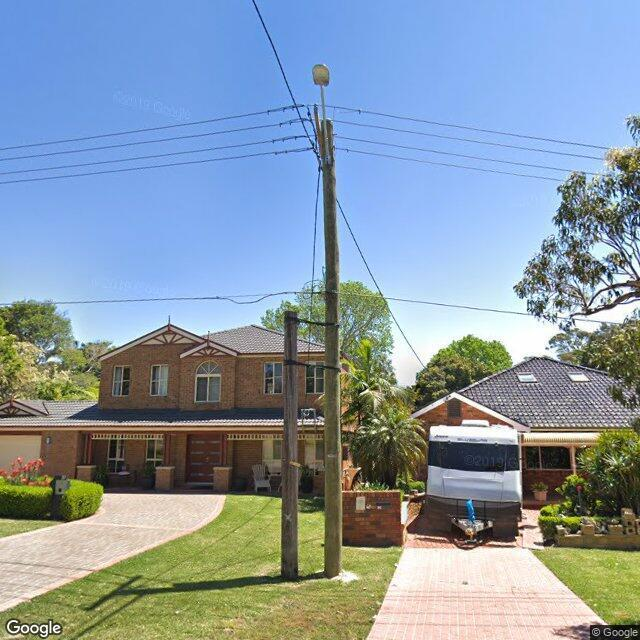crossarm: (312, 102, 325, 164)
streetlight: (312, 62, 332, 166)
timber-pole: (319, 118, 341, 580), (280, 309, 302, 582)
